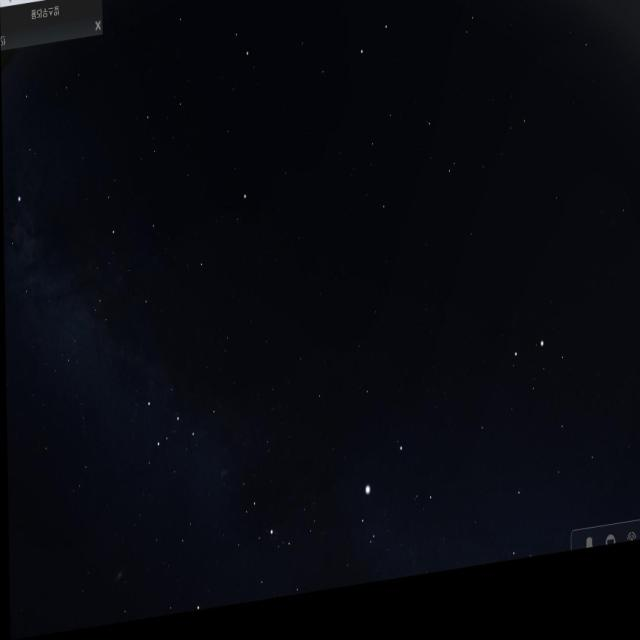cassiopeia: (142, 376, 213, 470)
